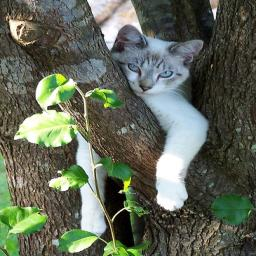catnose: (138, 82, 154, 92)
